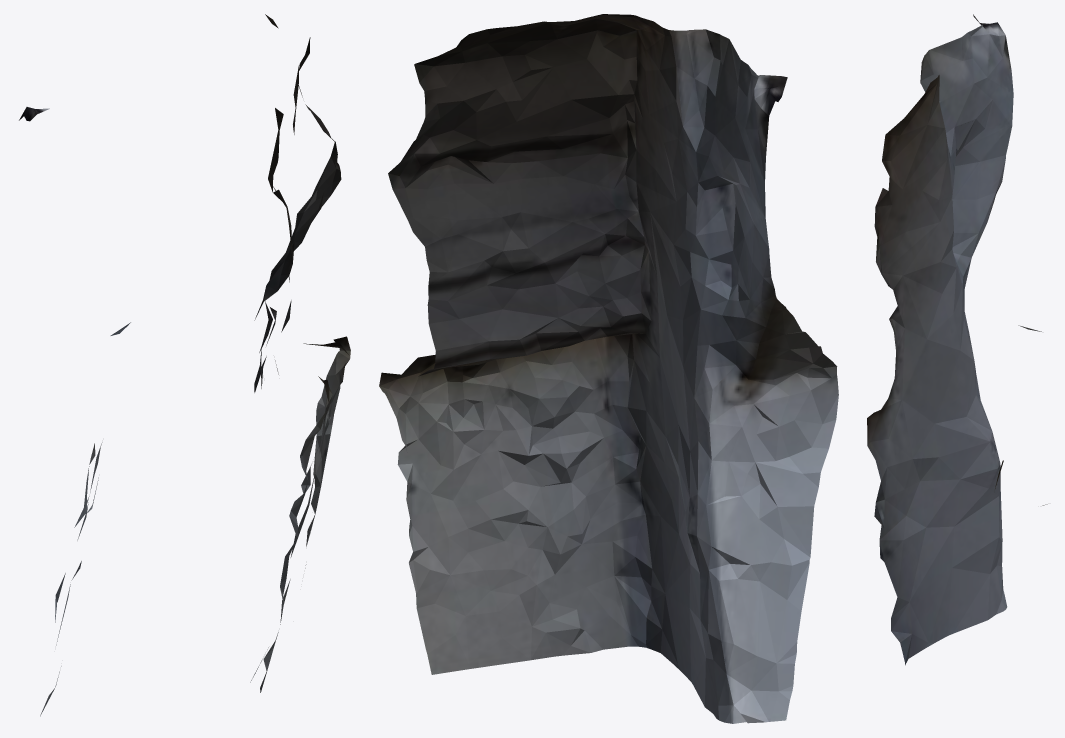
3 views of the same model, side by side, from view 1: azimuth 30°, elevation 25°; view 2: azimuth 150°, elevation 25°; view 3: azimuth 270°, elevation 25° (orthographic). The views are drawn at different scales.
Bounding box in the file's own units: 0.5035 × 0.8373 × 0.2431.
Materials: 2 (2 with a texture image).
